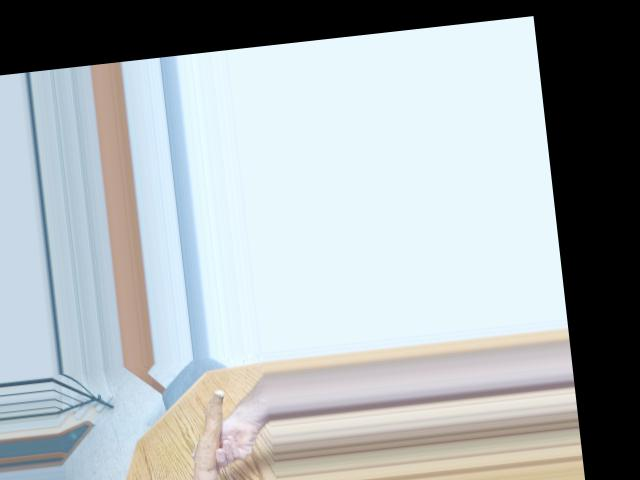sweet_potato: (177, 391, 236, 480)
